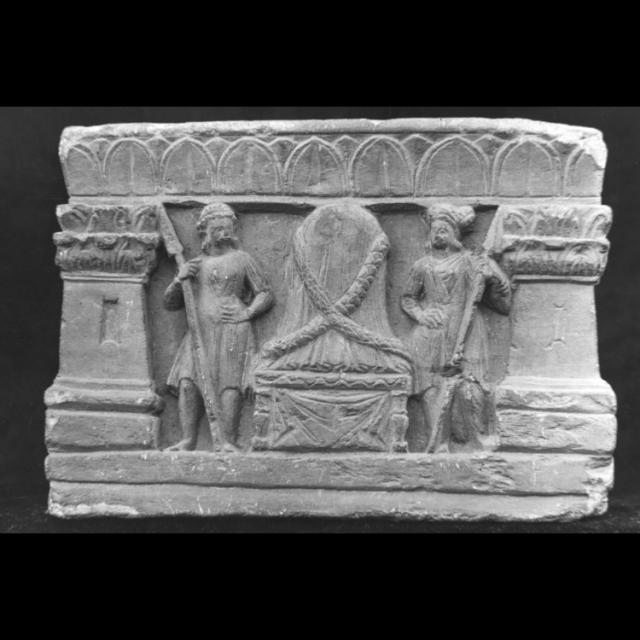buddha-pyre: (252, 202, 412, 449)
